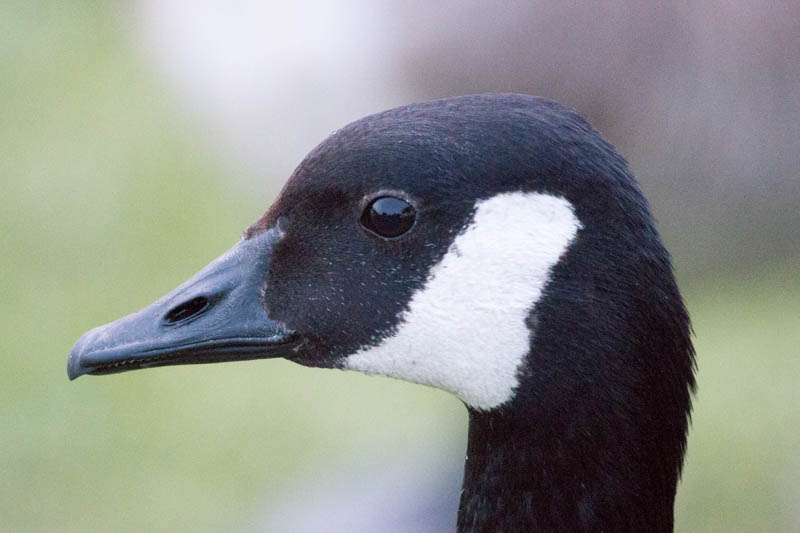goose-head: (66, 93, 691, 413)
